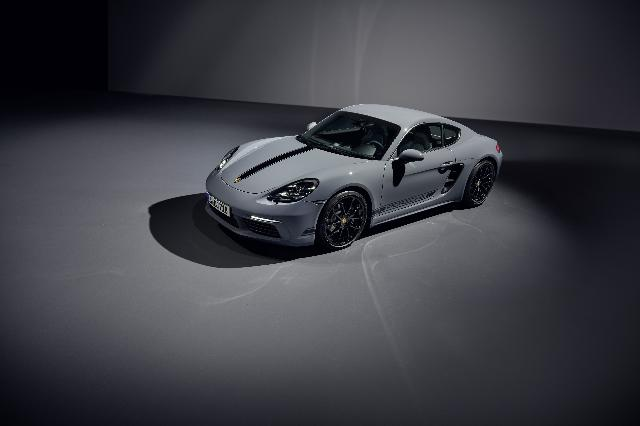porsche: (202, 102, 504, 252)
